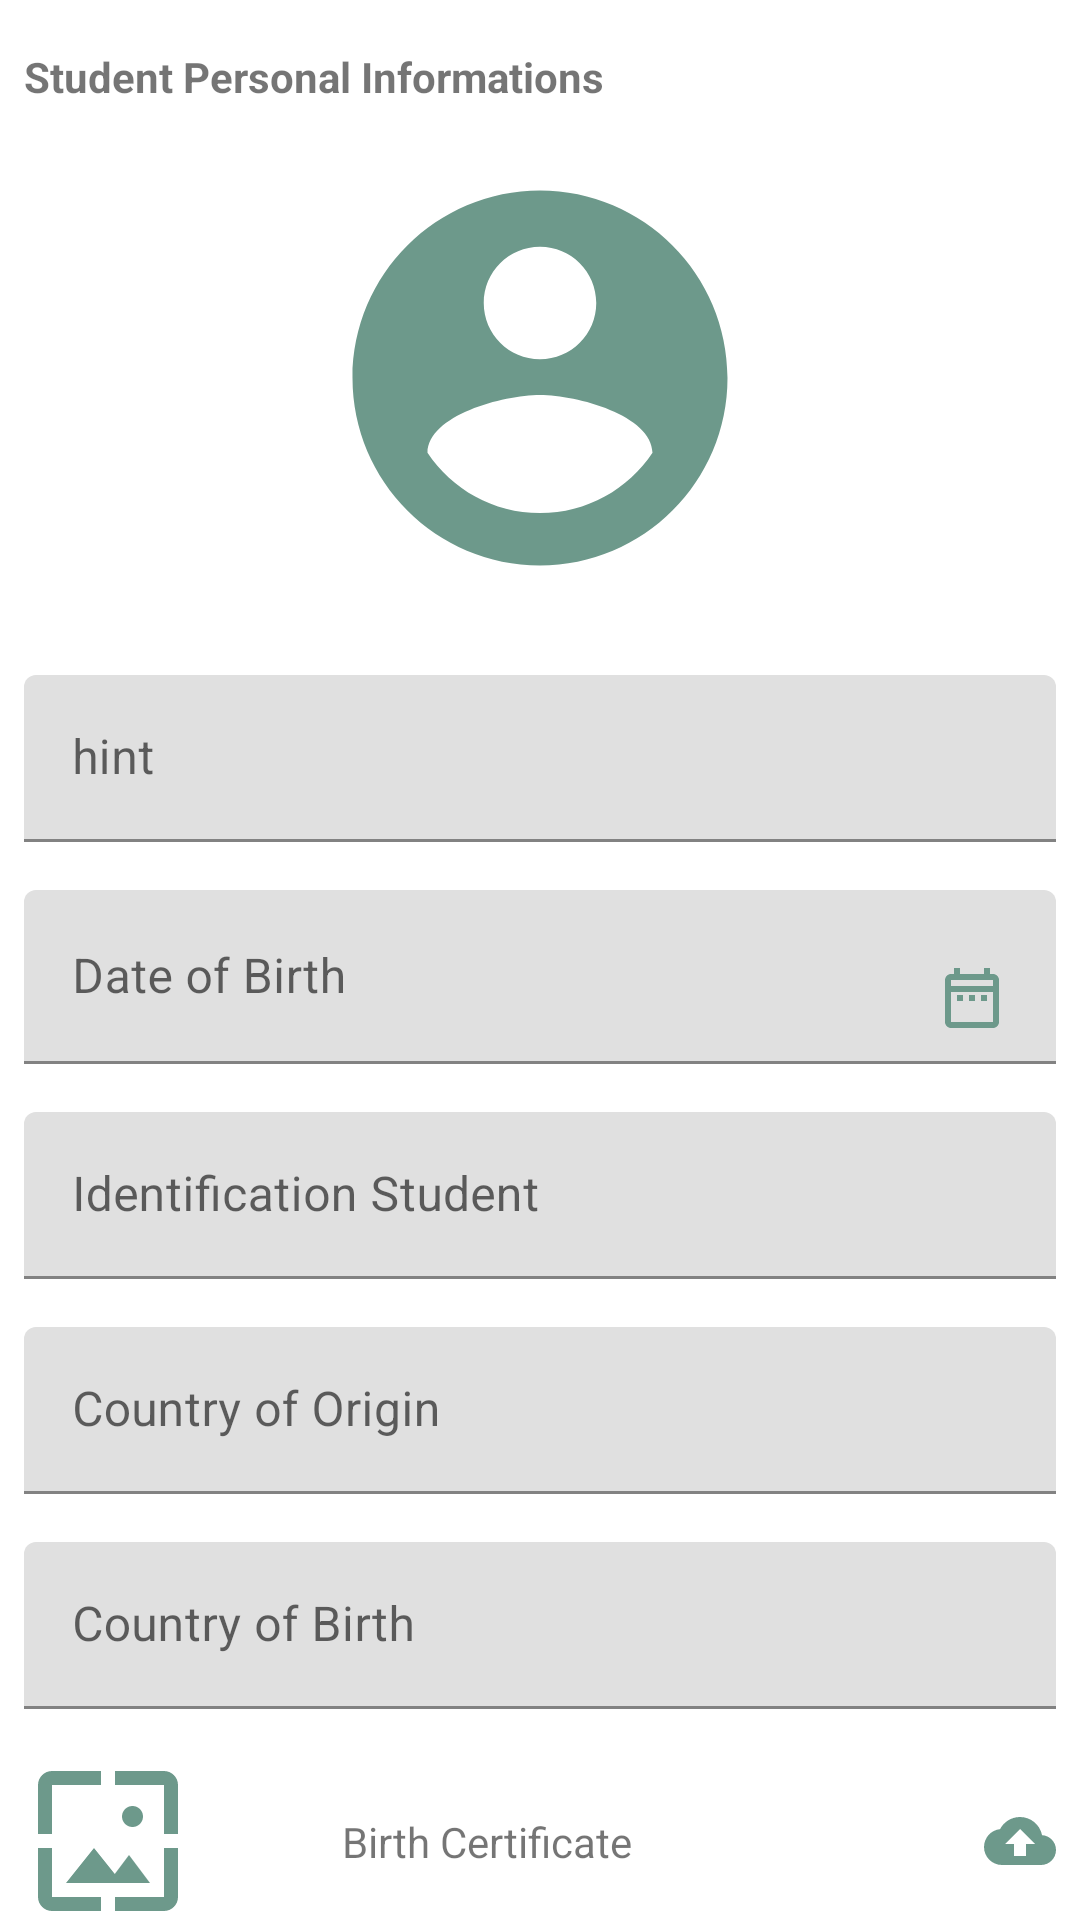

Where icons sit on this 1080×1920 app screen, as bbox=[x1, y1, x2, y2]:
cloud upload: bbox=[984, 1817, 1056, 1865]
